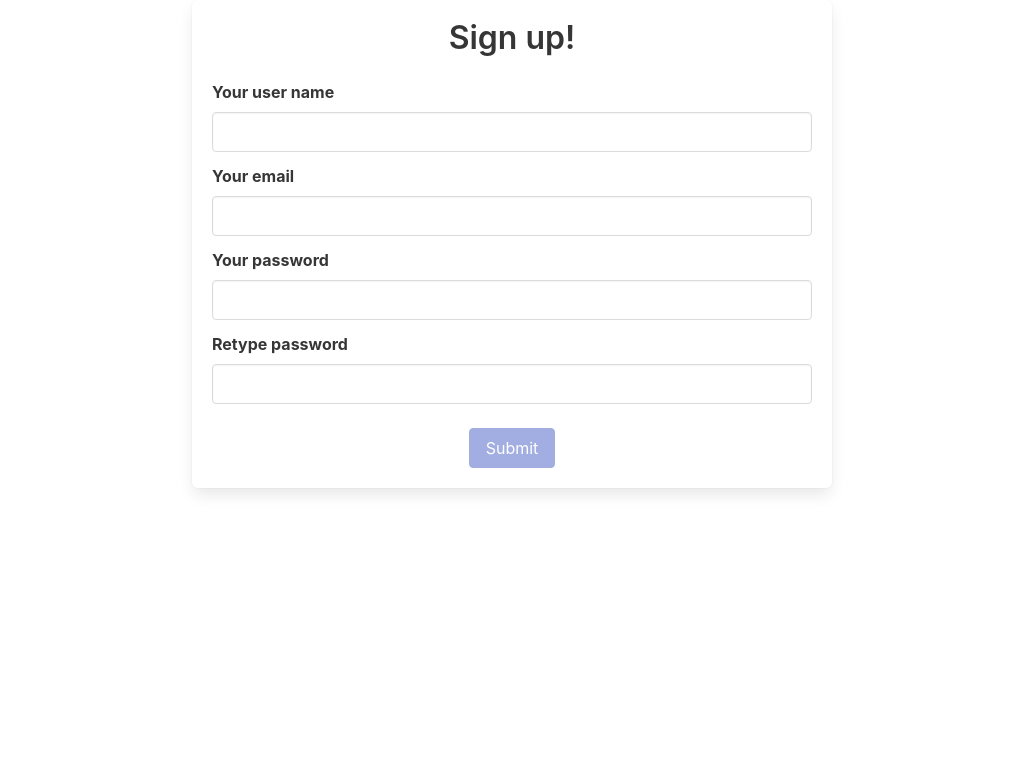
Scenario: Signup page › on interaction level › provides a message after email error
Type "user 111" into the field labelled "Your user name" at x=512, y=132, box [212,112,812,152]
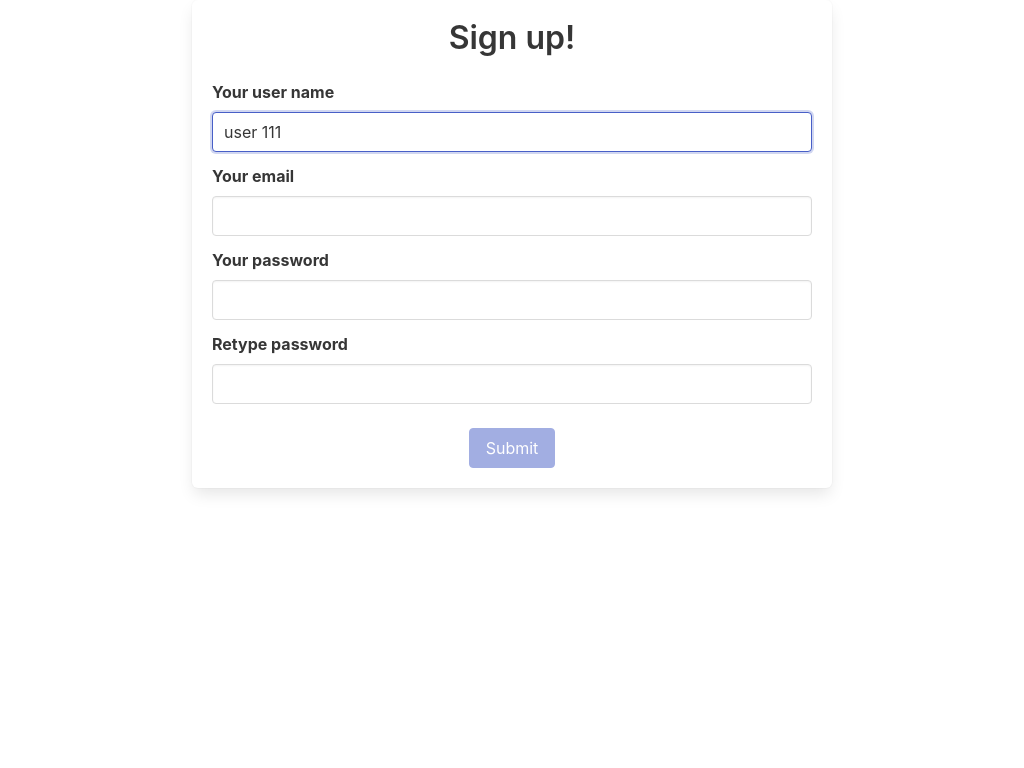
Type "user111@" into the field labelled "Your email" at x=512, y=216, box [212,196,812,236]
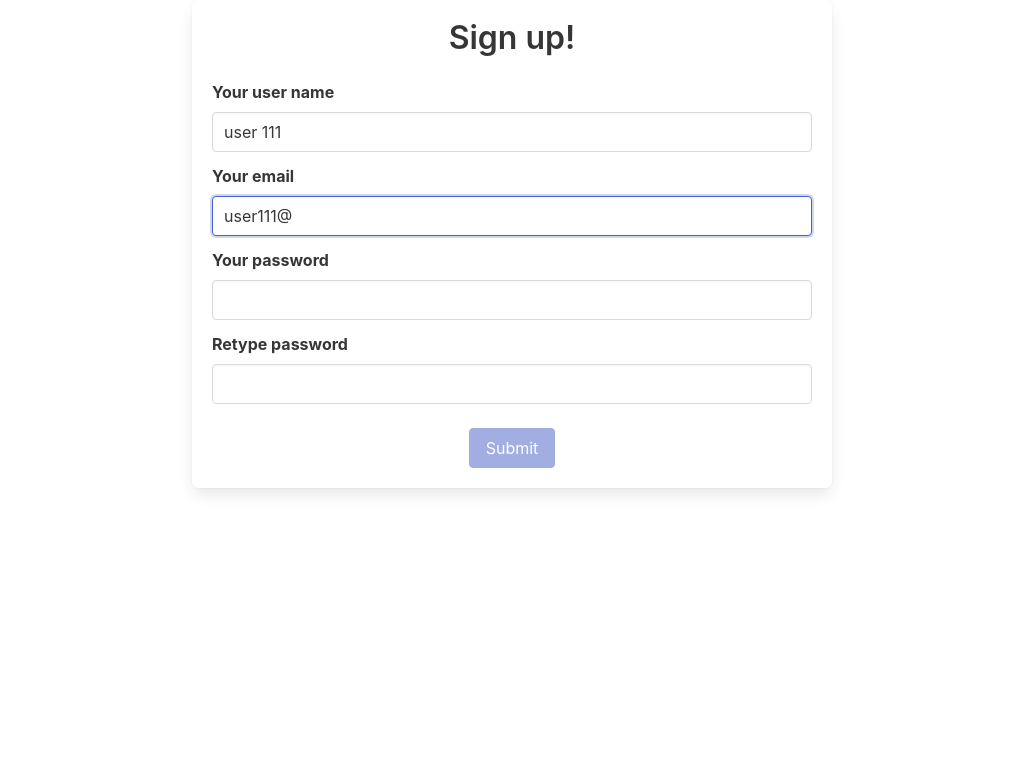
Type "p4ssword" into the password field labelled "Your password" at x=512, y=300, box [212,280,812,320]
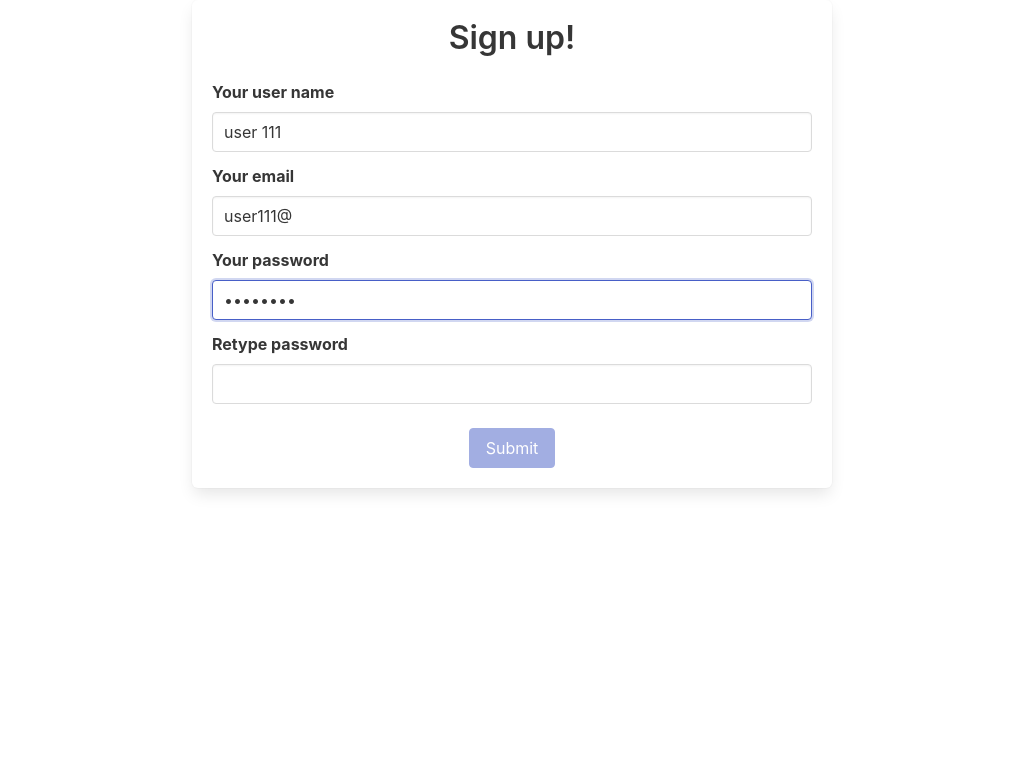
Type "p4ssword" into the password field labelled "Retype password" at x=512, y=384, box [212,364,812,404]
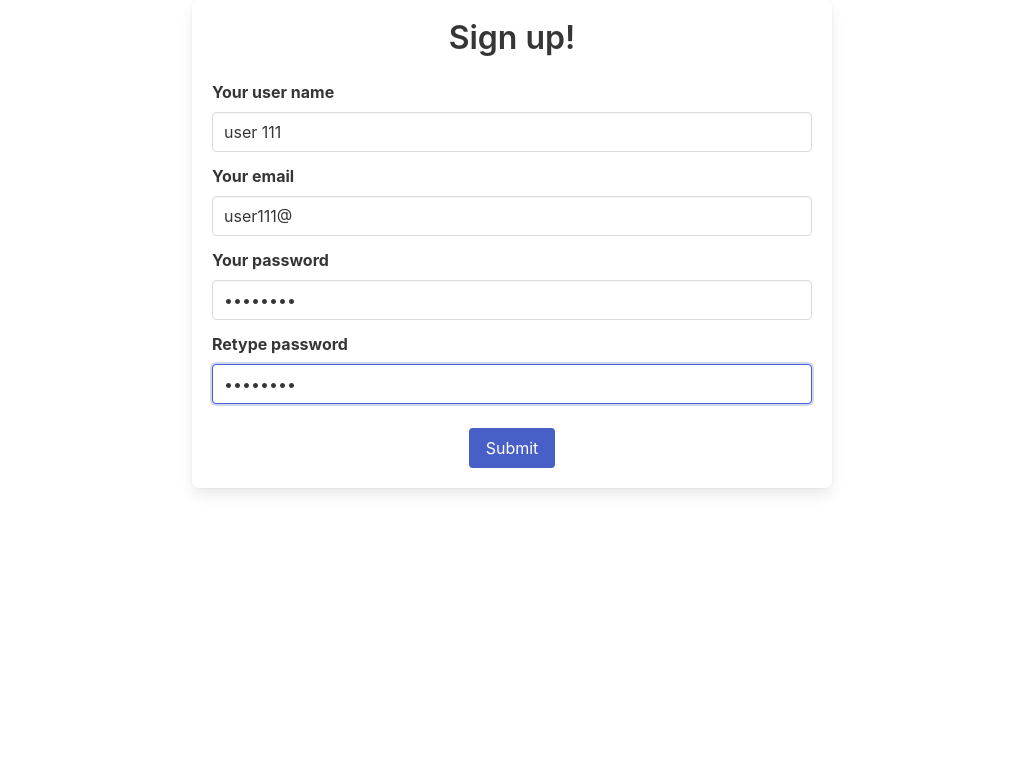
Click the button "Submit" at x=512, y=448, box [469,428,555,468]
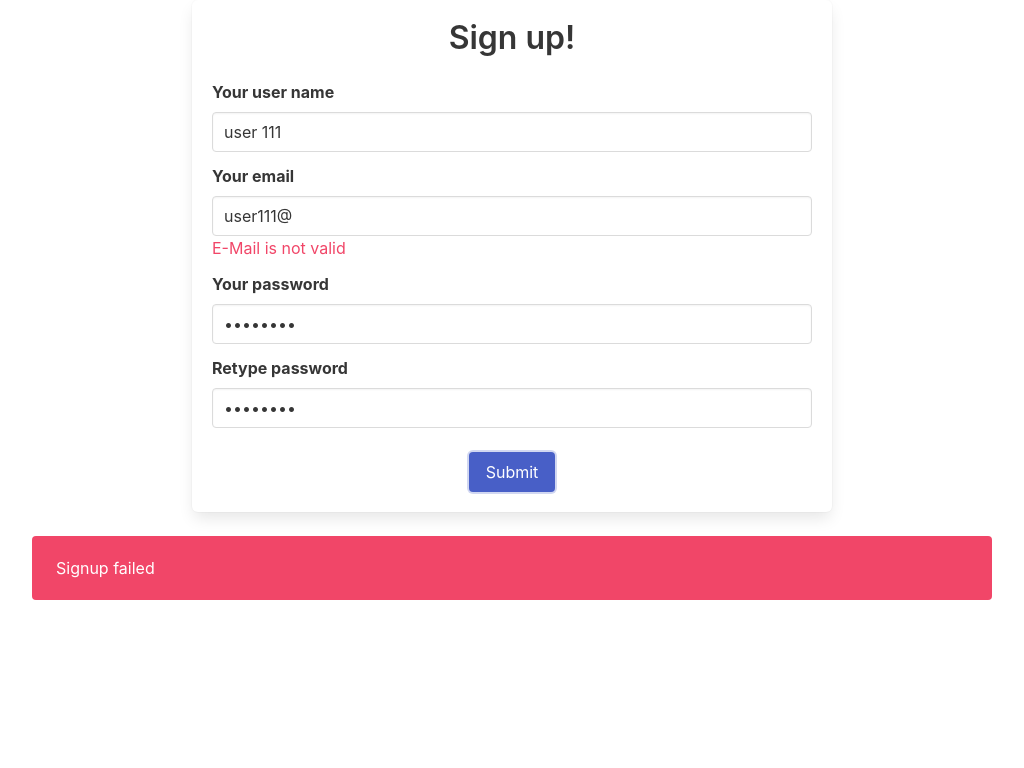
Expected: the text "E-Mail is not valid" is shown, [212,238,346,258]
